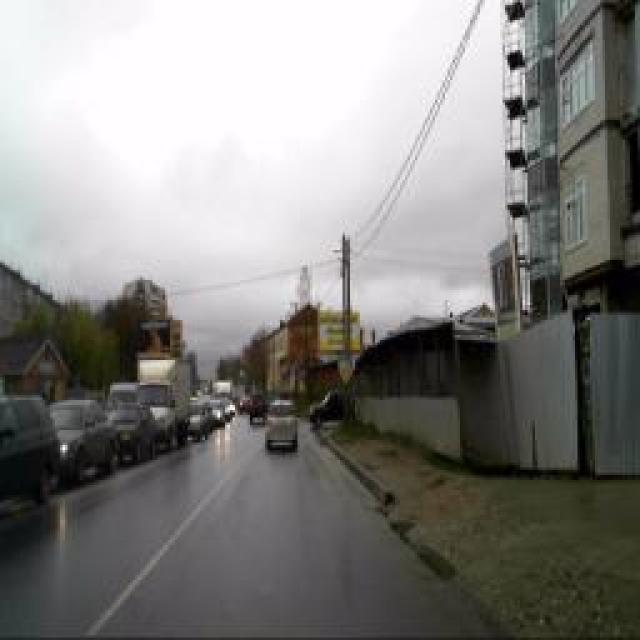sign: (338, 360, 354, 385)
